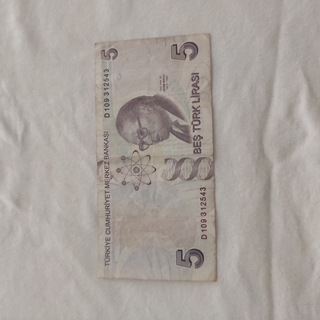5TLBack: (92, 31, 217, 282)
